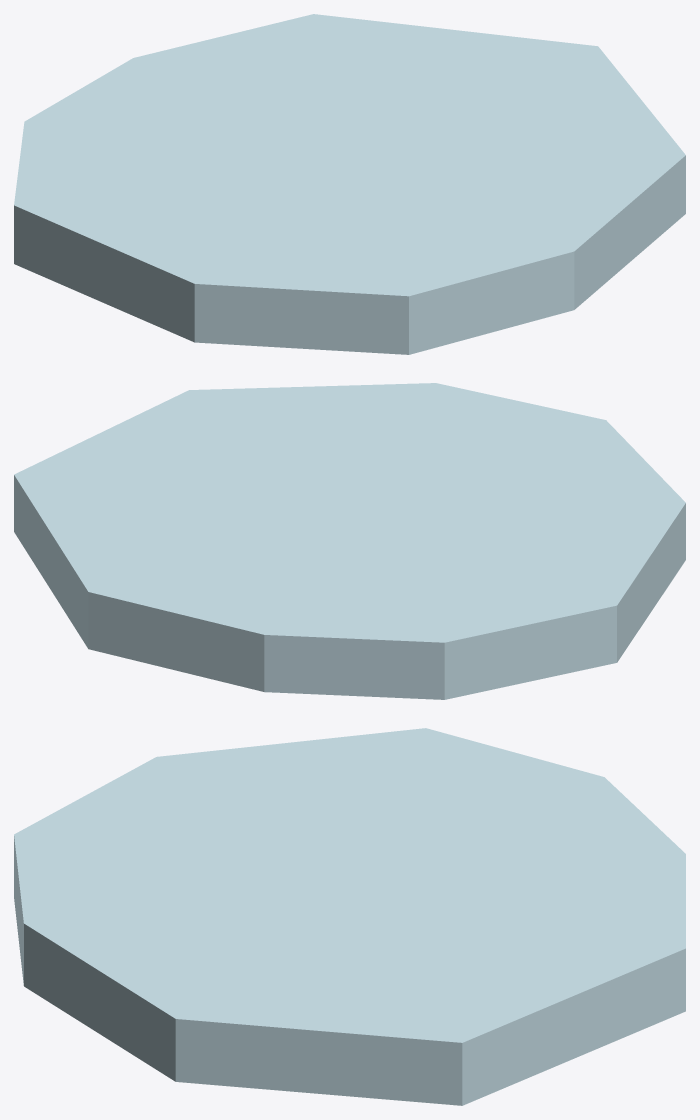
Rendered from SM_Env_Ice_03.gltf.
3 renders of one model, top to bottom at view 1: azimuth 30°, elevation 25°; view 2: azimuth 150°, elevation 25°; view 3: azimuth 270°, elevation 25°, orthographic. The views are drawn at different scales.
Parts seen in each view (by area): view 1: SM_Env_Ice_03; view 2: SM_Env_Ice_03; view 3: SM_Env_Ice_03.
Part boxes in pixels (x1,y1,x2,y2): SM_Env_Ice_03: (14, 14, 685, 354); SM_Env_Ice_03: (14, 383, 685, 699); SM_Env_Ice_03: (14, 728, 685, 1105).
Size of the model in its own units: 1.91 by 0.1777 by 1.72.
Materials: 1 (1 with a texture image).
